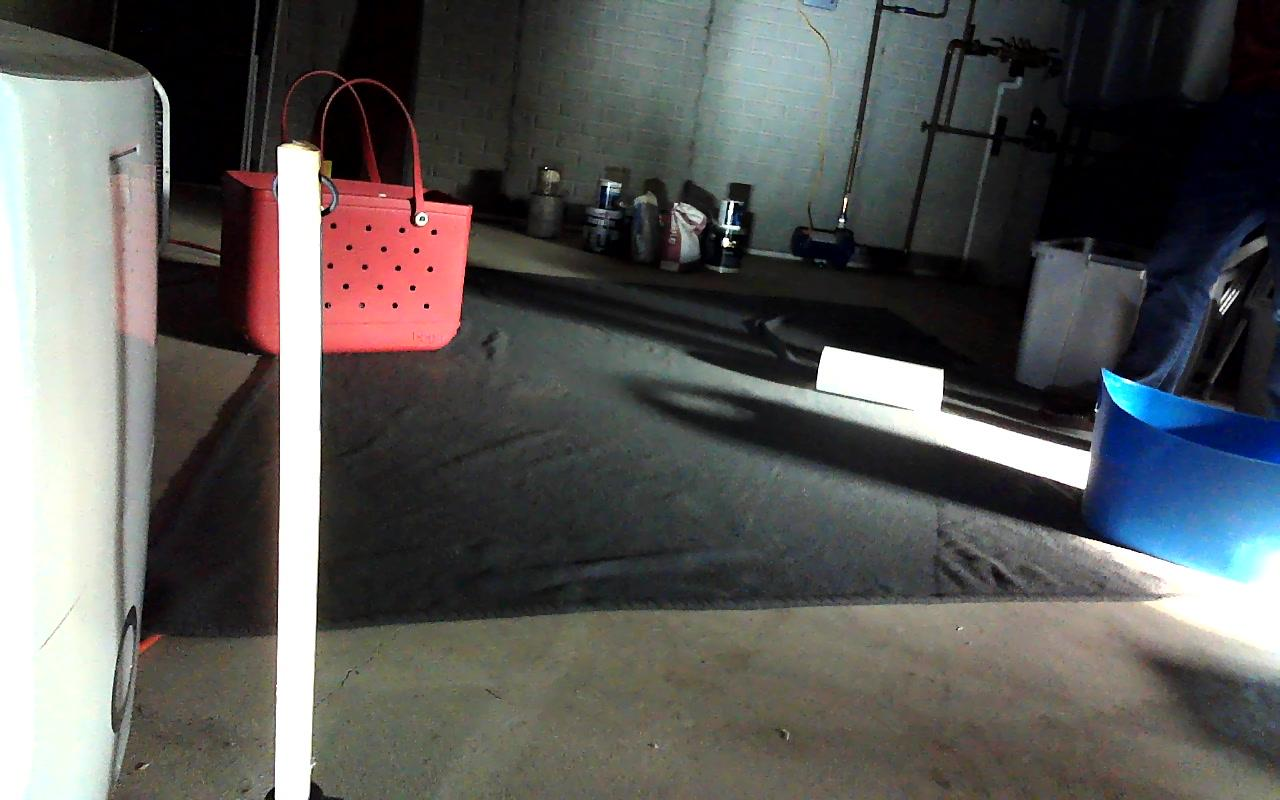coral: (815, 346, 943, 415)
